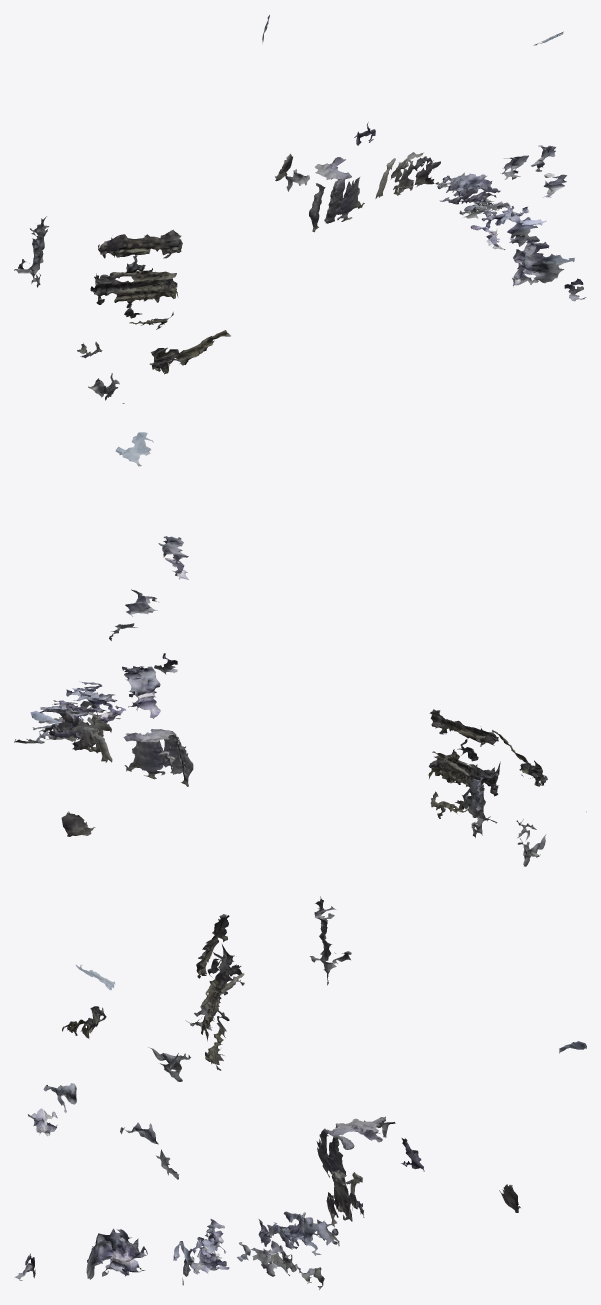
Rendered from rigid_body.obj.
3 renders of one model, top to bottom at view 1: azimuth 30°, elevation 25°; view 2: azimuth 150°, elevation 25°; view 3: azimuth 270°, elevation 25°, orthographic. The views are drawn at different scales.
Size of the model in its own units: 4.73 by 2.79 by 3.88.
